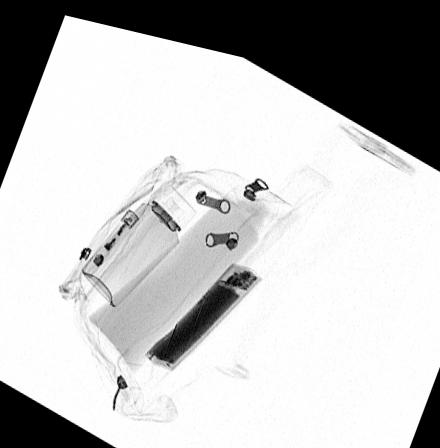Lighter: (81, 202, 140, 274)
Powerbank: (144, 251, 261, 360)
Sprayer: (80, 174, 196, 302)
